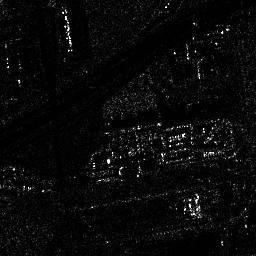ship: (60, 6, 73, 50)
